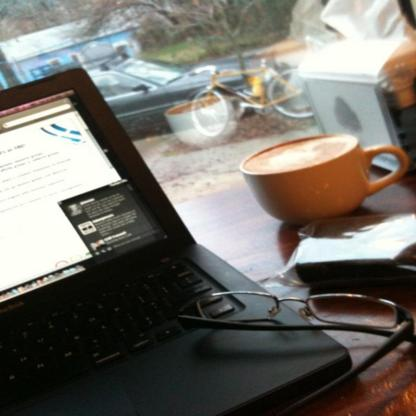board: (9, 91, 323, 412)
